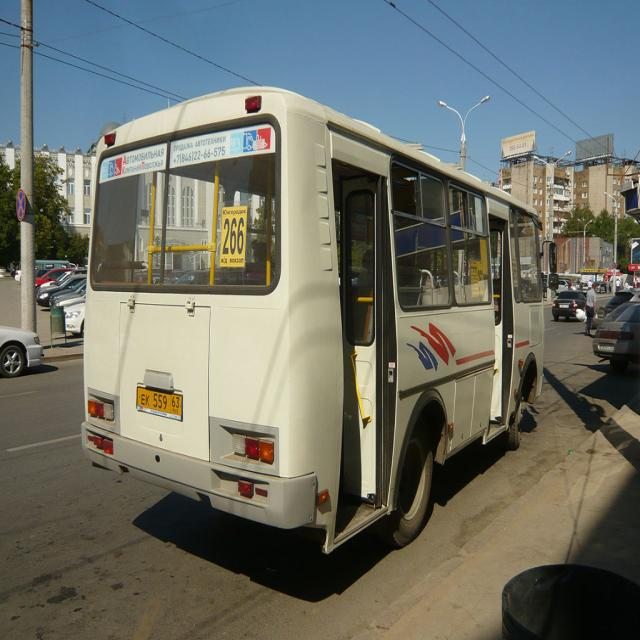number-of-bus: (221, 216, 248, 257)
